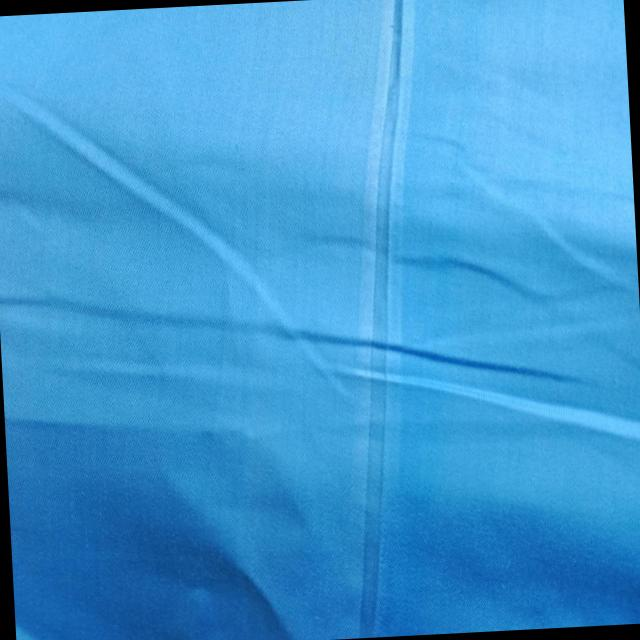selvet: (338, 246, 417, 638), (356, 0, 432, 246)
